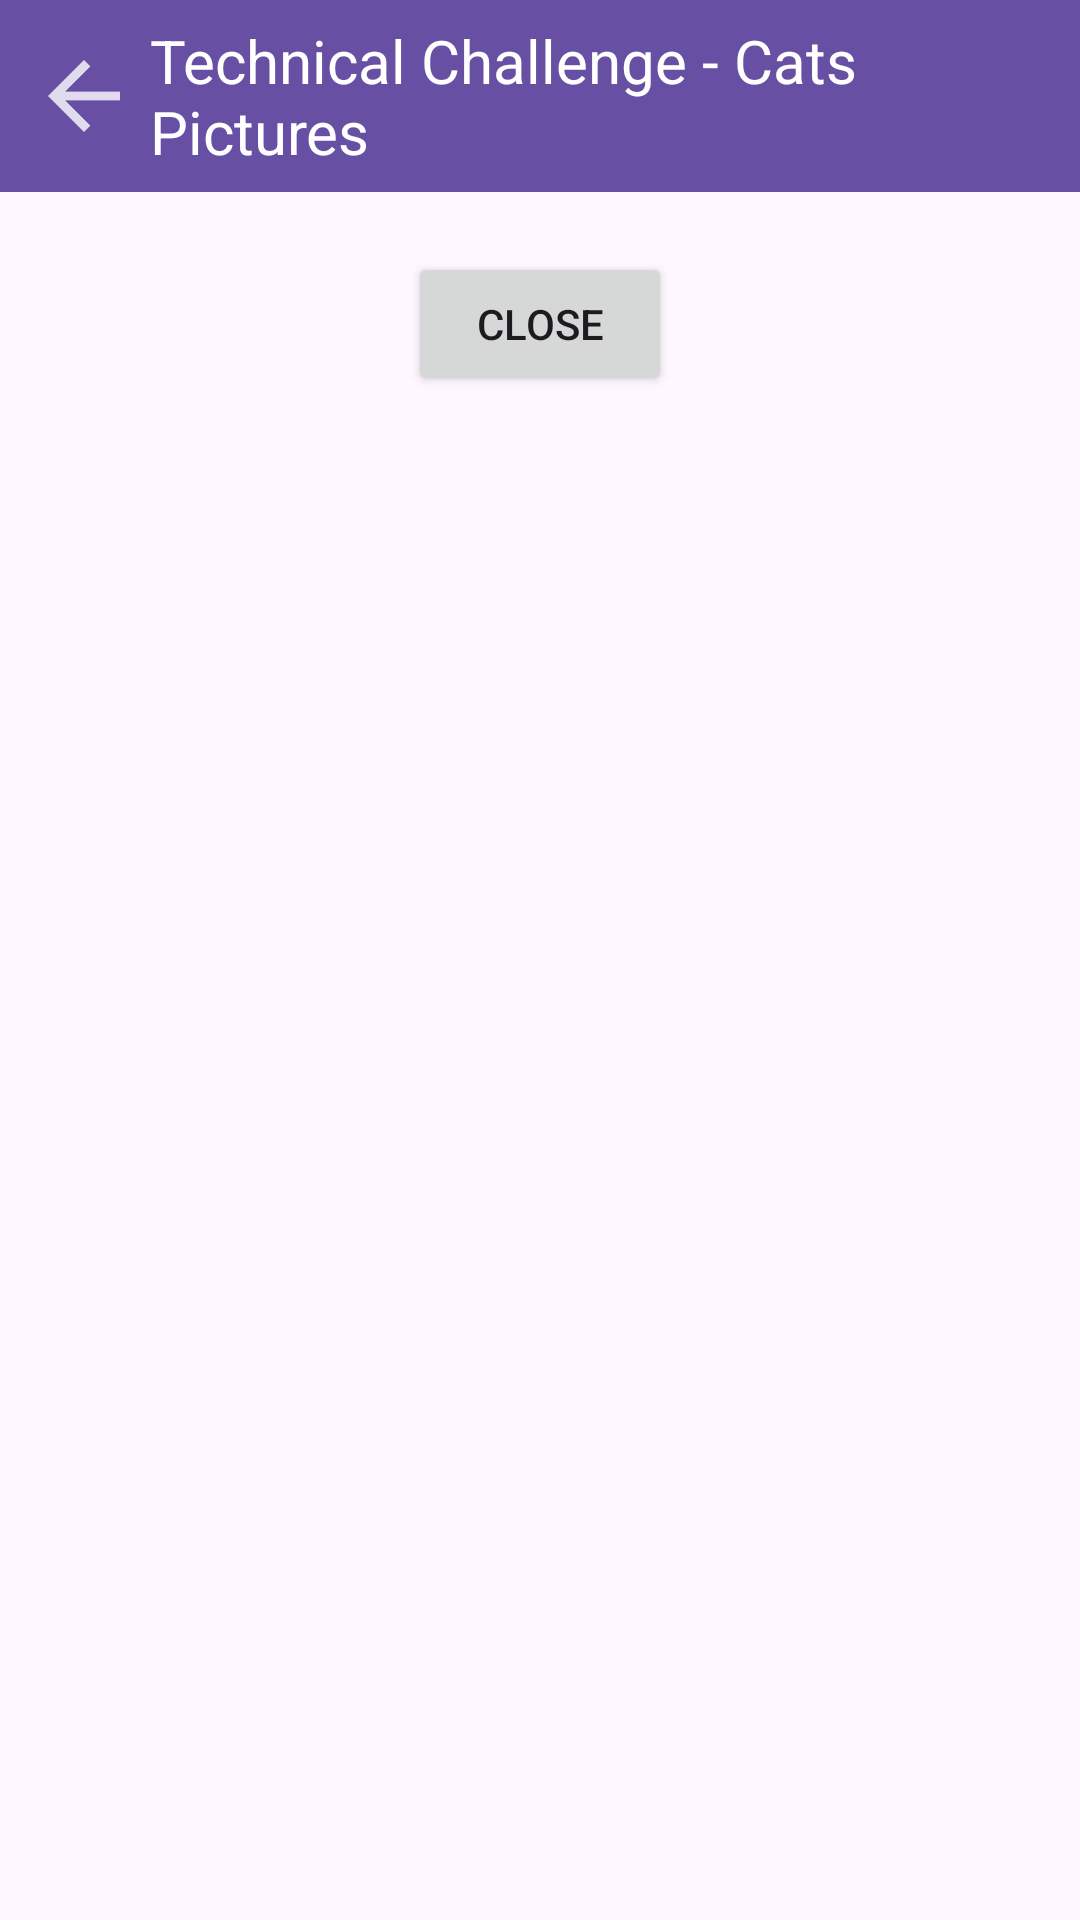

Icon bounding boxes for this 1080 × 1920 phone screenshot, format (x1=x1, y1=y1, x2=x2, y2=y2):
back: (x1=48, y1=60, x2=120, y2=132)
